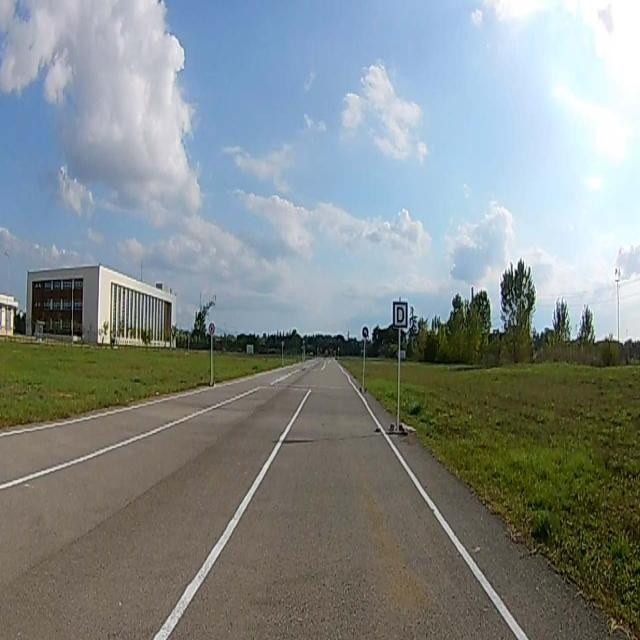durak: (393, 302, 407, 326)
